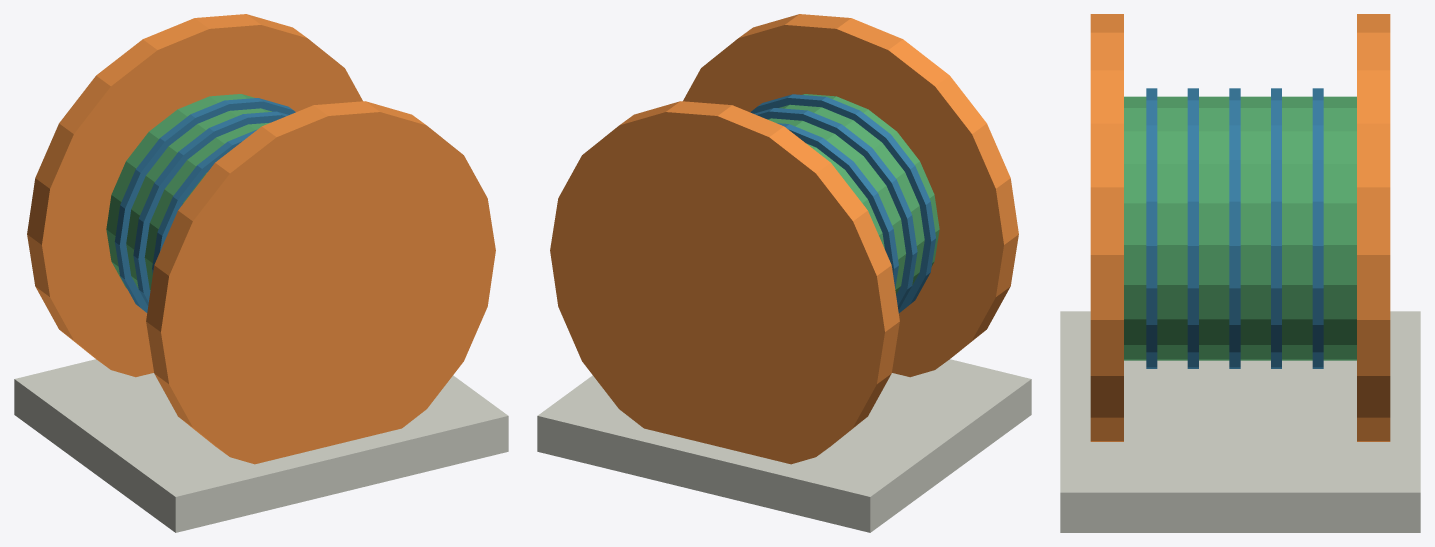
The model's file is CYCLE-019.glb.
The picture shows the model from 3 angles, left to right: view 1: azimuth 30°, elevation 25°; view 2: azimuth 150°, elevation 25°; view 3: azimuth 270°, elevation 25°; orthographic projection. The views are drawn at different scales.
Parts seen in each view (by area): view 1: CYCLE-019; view 2: CYCLE-019; view 3: CYCLE-019.
Boxes of the visible parts, left/top/right/bottom form: CYCLE-019: left=14, top=14, right=508, bottom=532; CYCLE-019: left=537, top=14, right=1031, bottom=532; CYCLE-019: left=1060, top=14, right=1420, bottom=532.
Size of the model in its own units: 1.56 by 1.63 by 1.3.
